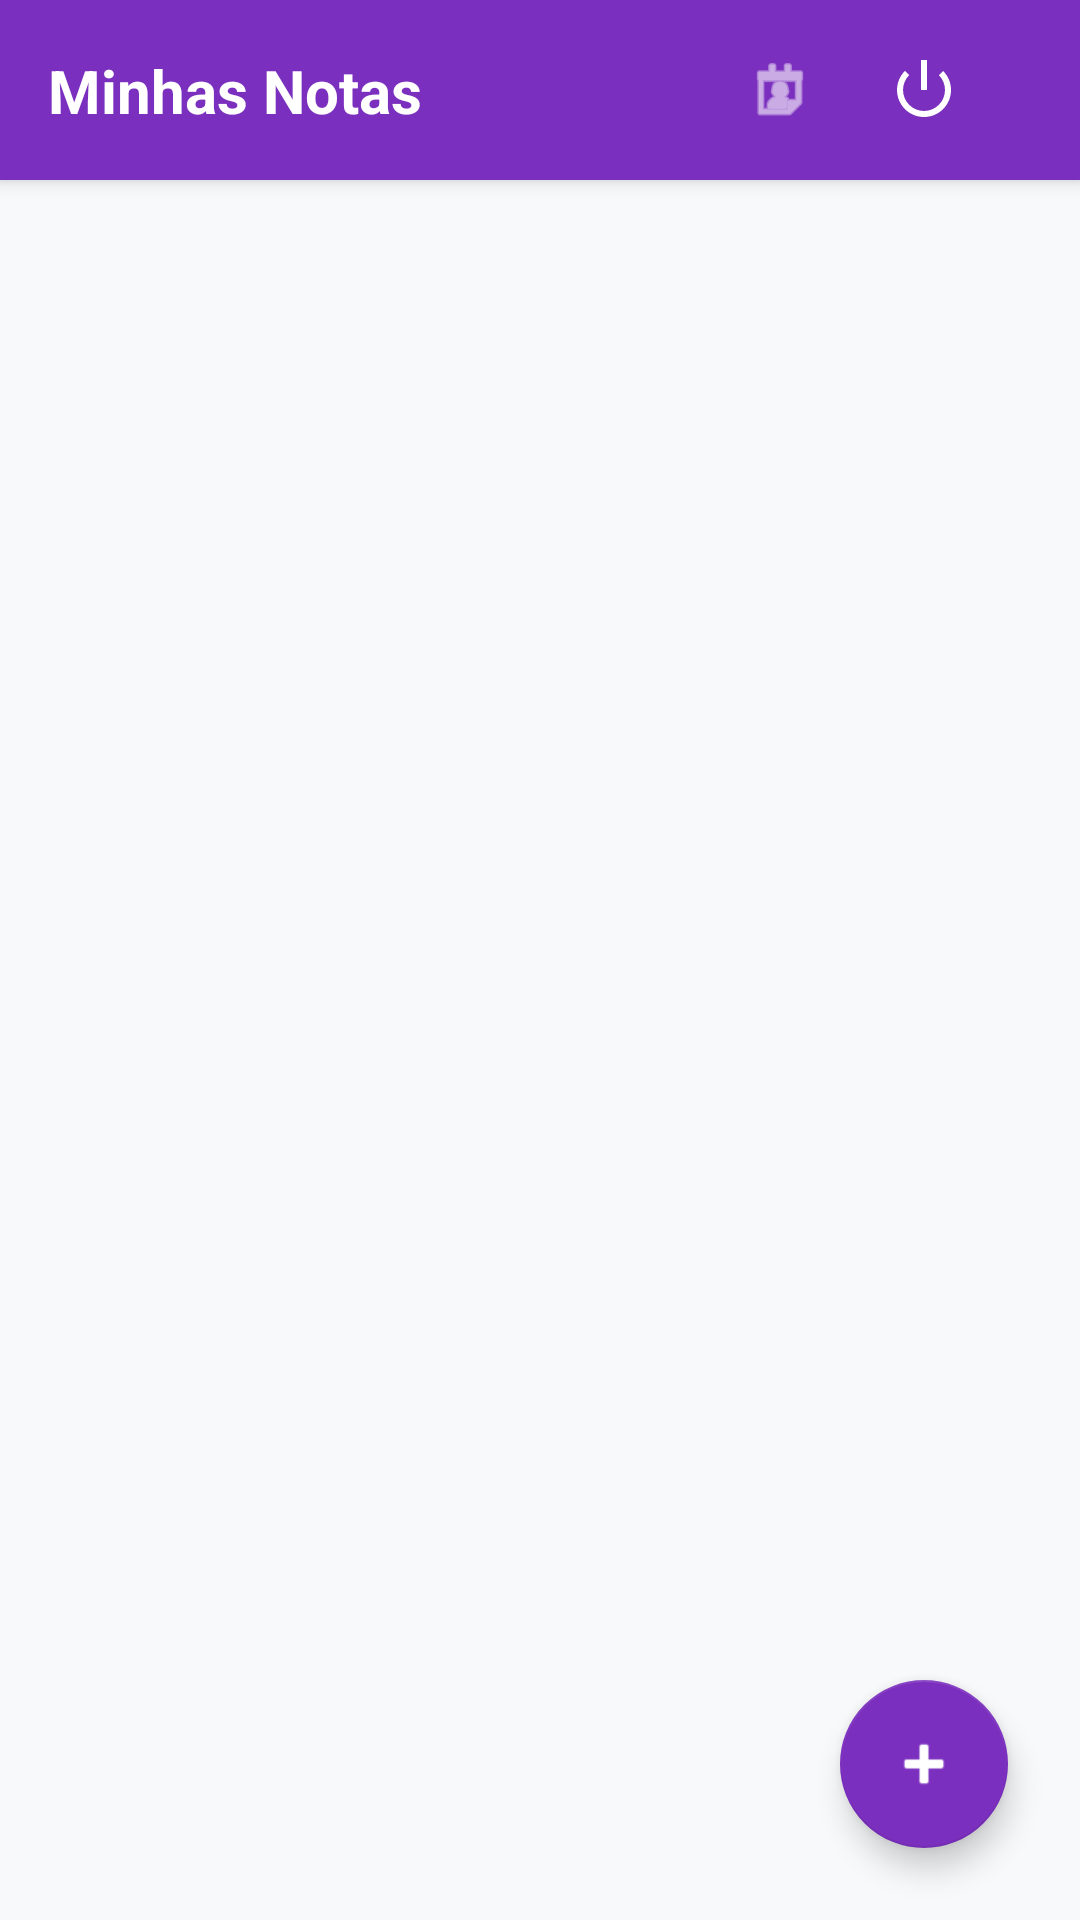

Icons on this 1080 x 1920 Android screen, each with its box as bbox(x1, y1, x2, y2):
Adicionar Nota: bbox(840, 1680, 1008, 1848)
calendar: bbox(757, 63, 803, 116)
lock power off: bbox(897, 60, 951, 117)
